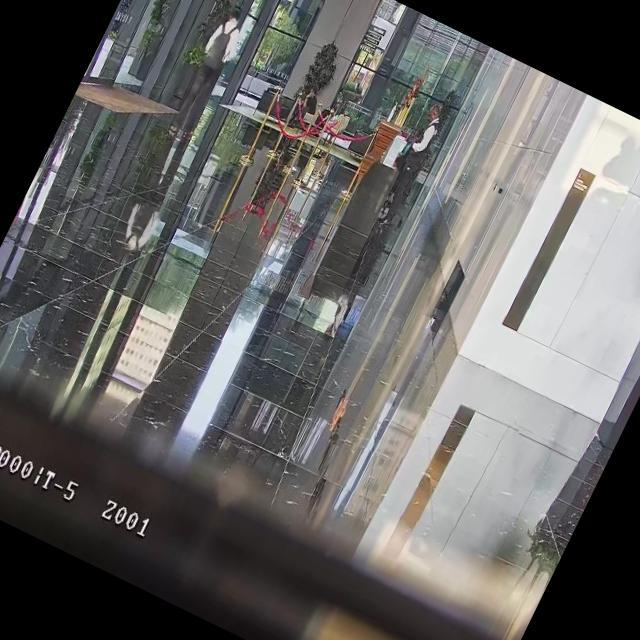person: (162, 0, 254, 144), (370, 97, 451, 230)
